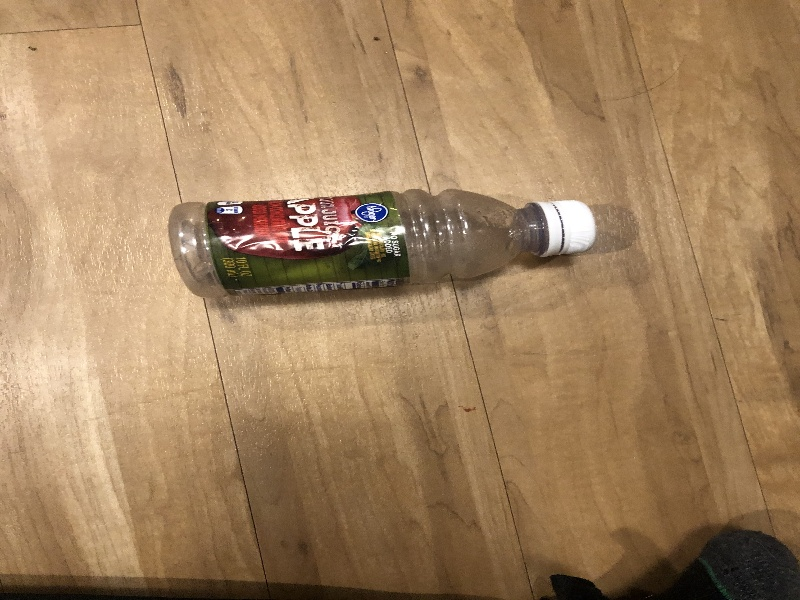plastic: (162, 187, 603, 301)
